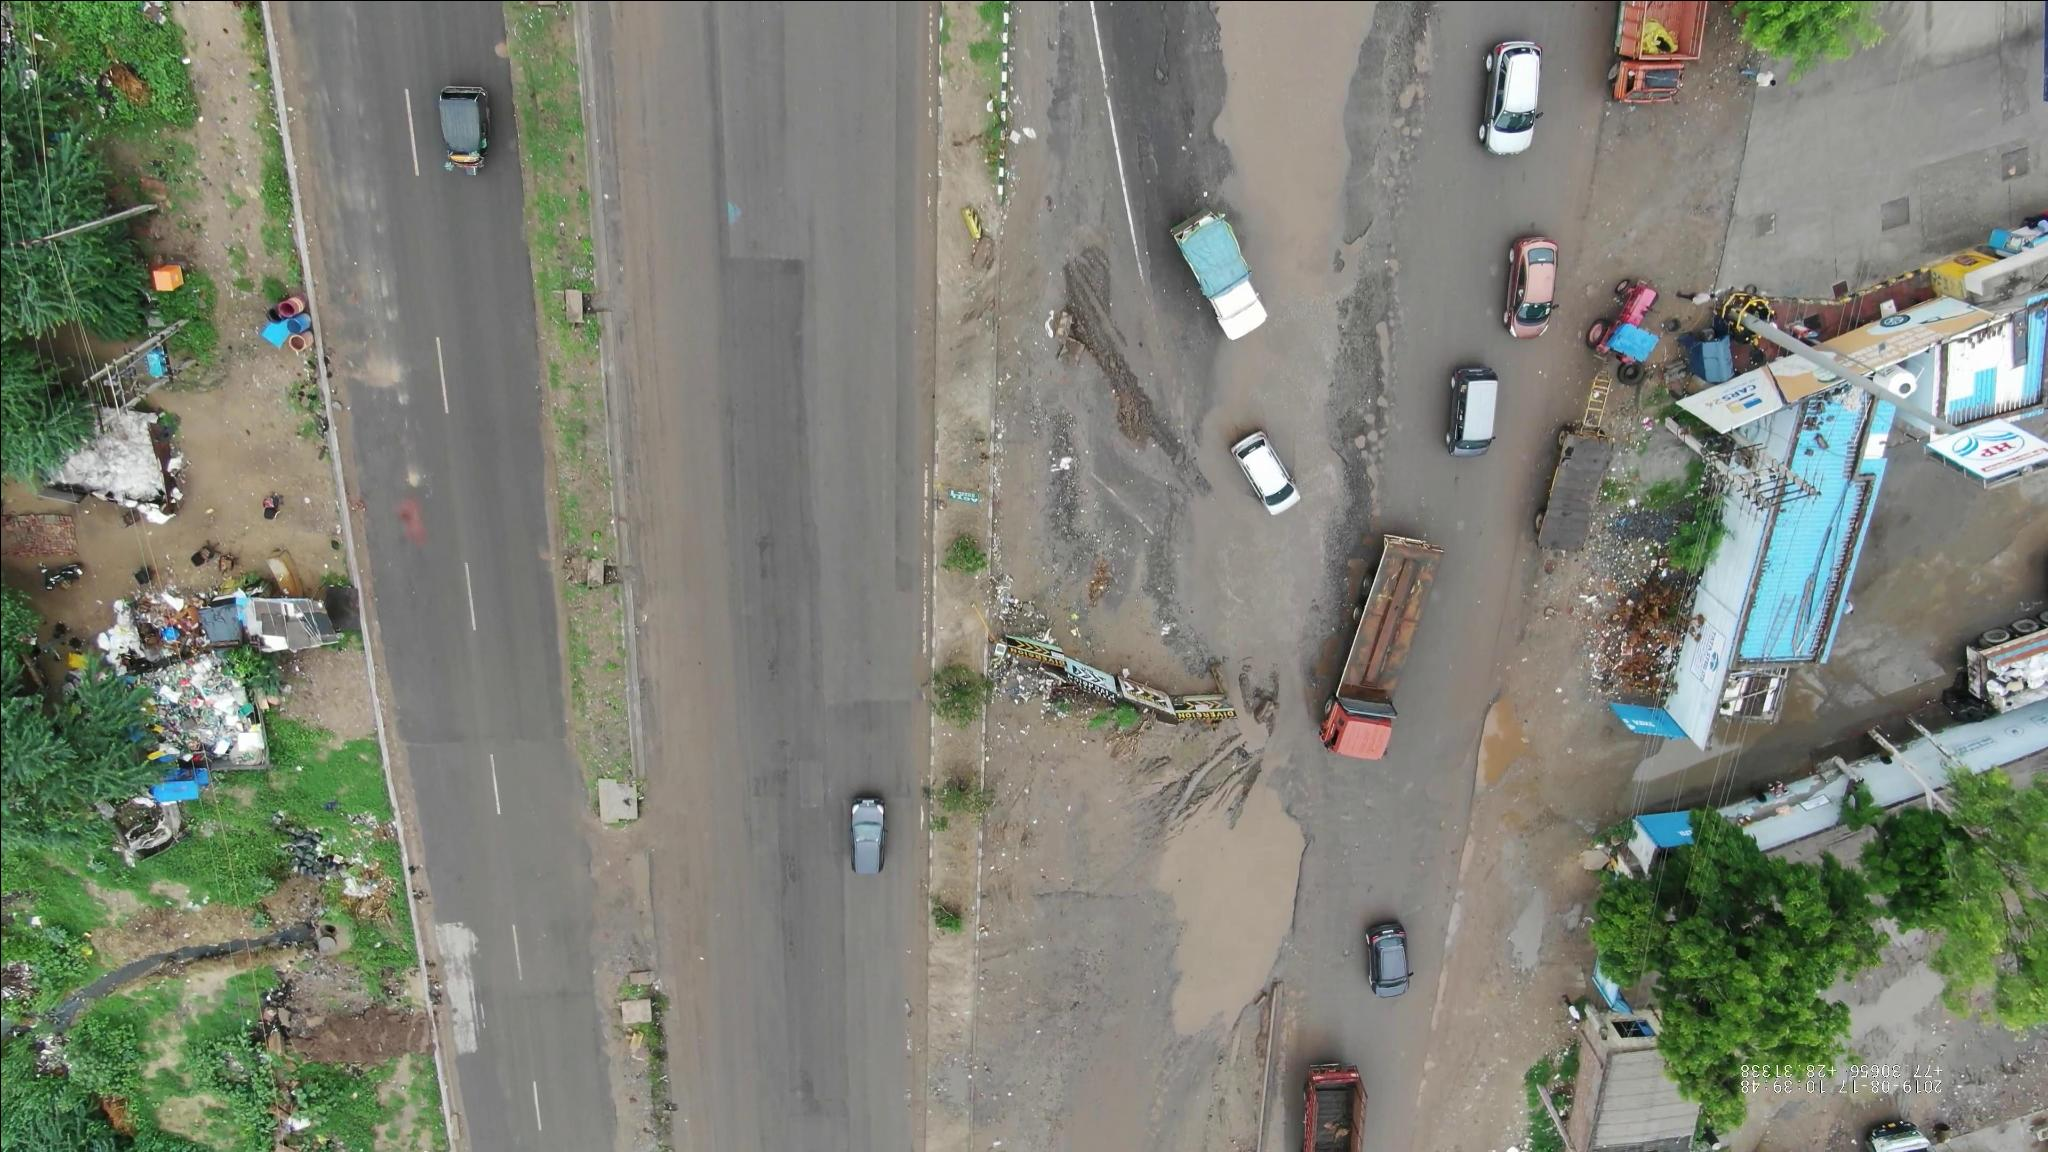Potholes: (363, 180, 440, 499), (1339, 271, 1418, 535), (1378, 24, 1452, 162), (338, 20, 388, 165)
Ravelling: (730, 477, 809, 717), (754, 767, 823, 992)
Waterlogging: (1146, 767, 1332, 1055), (1182, 21, 1371, 139)
